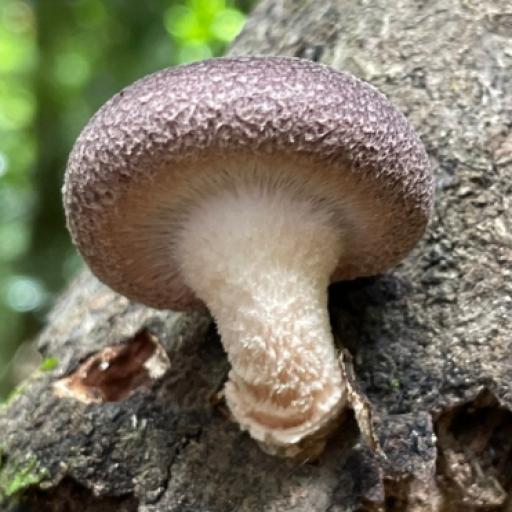Shiitake Mushroom: (22, 0, 512, 467)
